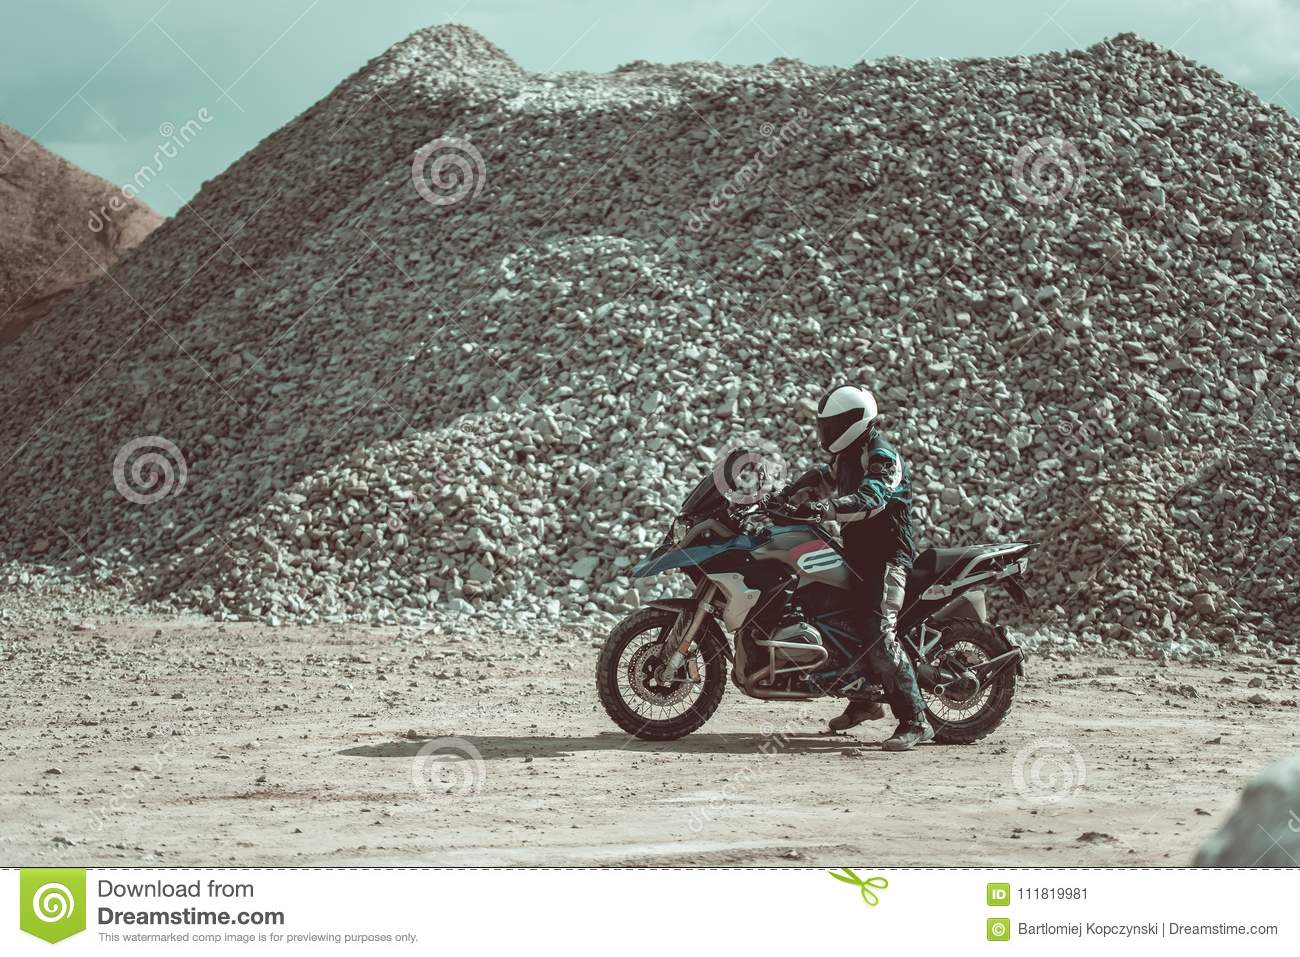helmet: (811, 383, 882, 455)
